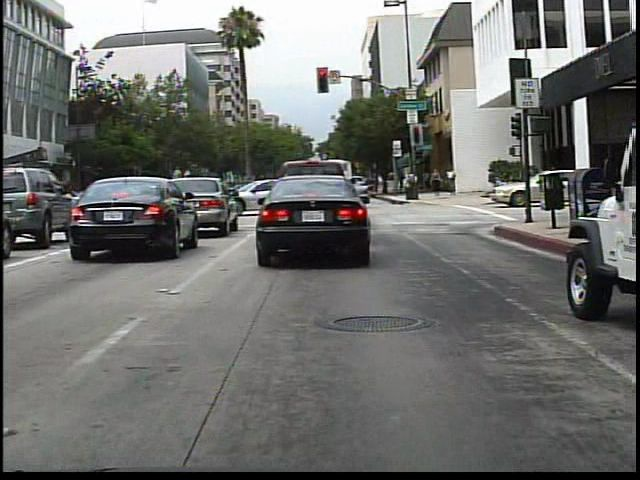person: (428, 165, 445, 198), (446, 165, 460, 197)
